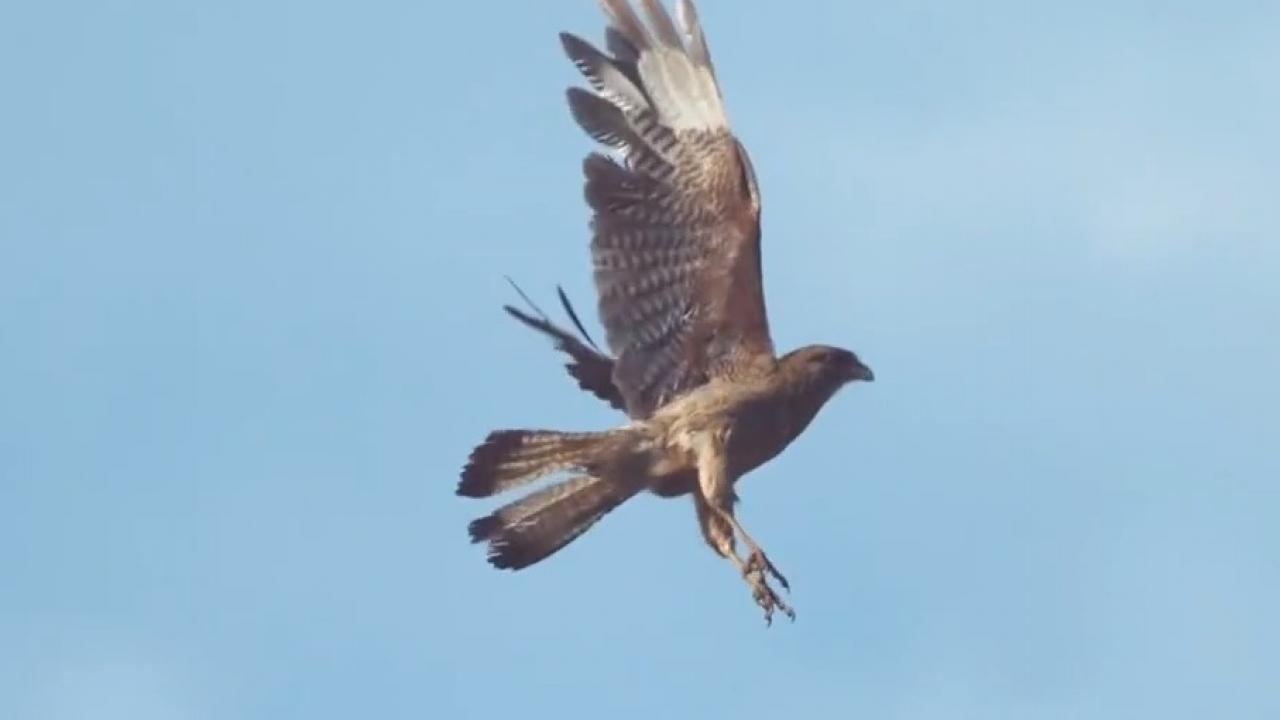Bird: (439, 0, 890, 641)
